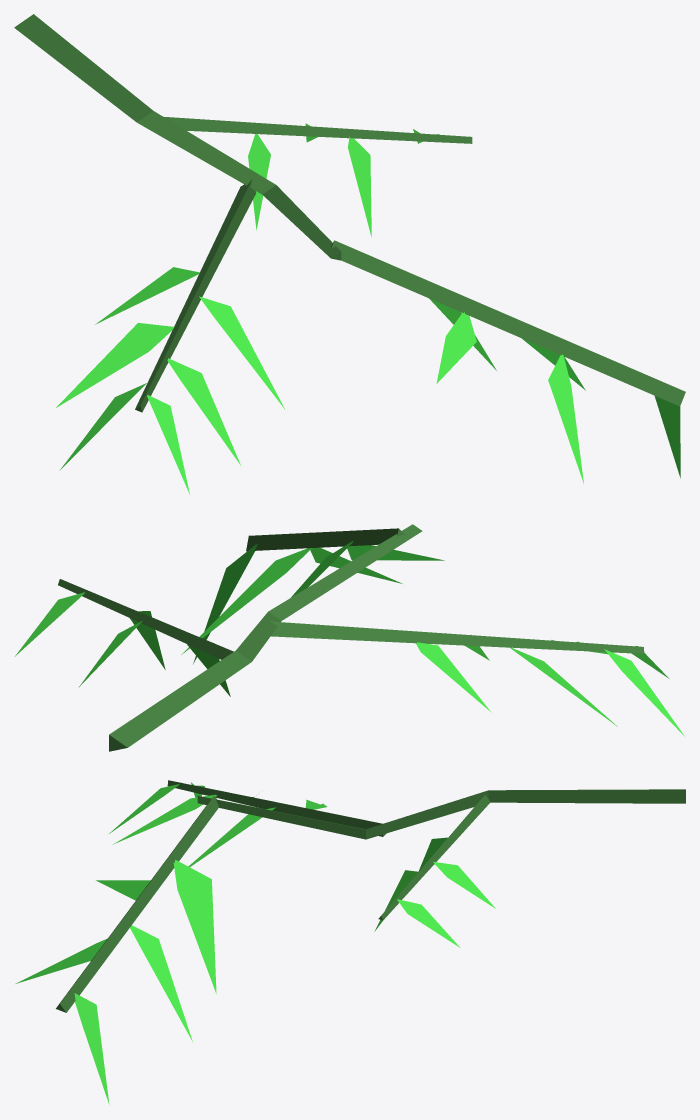
Rendered from BambooBranch2.fbx.
The picture shows the model from 3 angles, top to bottom: view 1: azimuth 30°, elevation 25°; view 2: azimuth 150°, elevation 25°; view 3: azimuth 270°, elevation 25°; orthographic projection. The views are drawn at different scales.
Visible parts, largest first — view 1: Branch2; view 2: Branch2; view 3: Branch2.
Part boxes in pixels (<box>): Branch2: <box>14,14,685,494</box>; Branch2: <box>15,524,684,751</box>; Branch2: <box>15,780,685,1104</box>.
Size of the model in its own units: 28.68 by 12.85 by 37.54.
